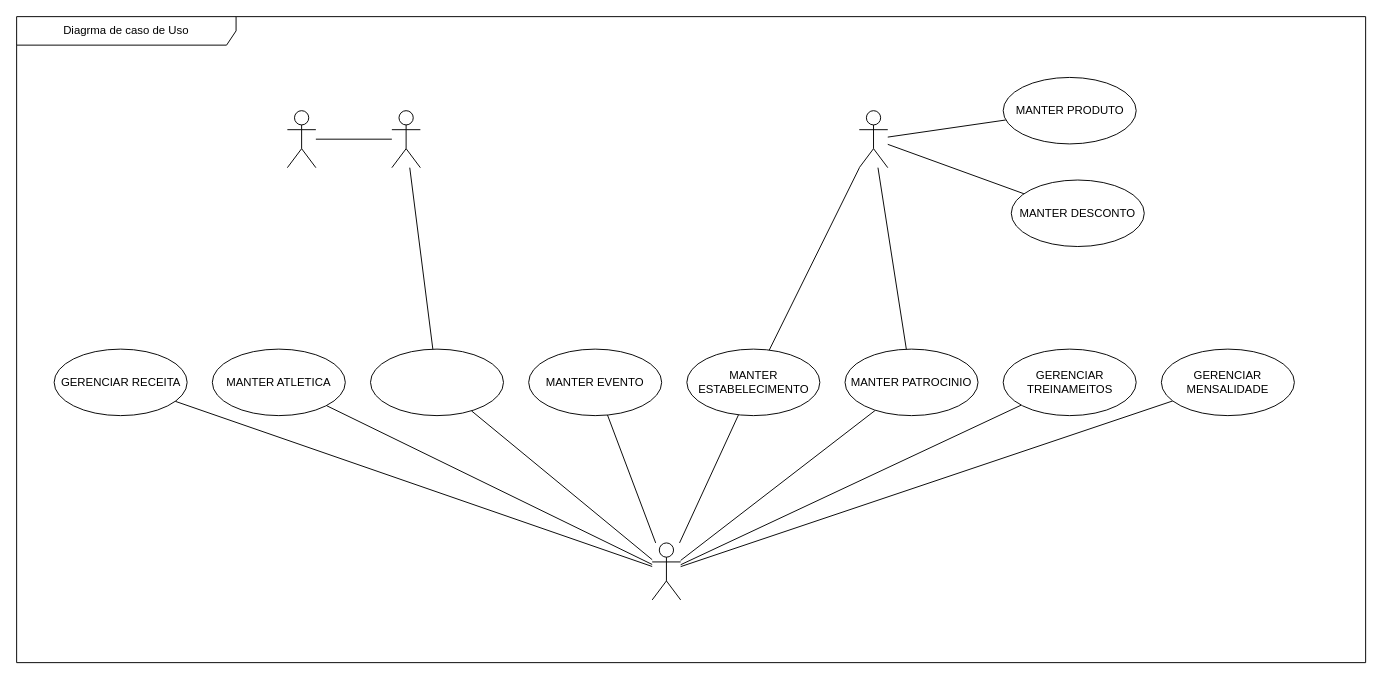
This 1382x679 diagram has some shape labels left out. Here are the shapes that lost their labels. From the top down, the centre of each, then its label:
At [301,139]: "DEPENDENTE".
At [405,139]: "ASSOCIADO".
At [873,139]: "PROPRIETÁRIO ESTABELECIMENTO".
At [437,382]: "MANTER ASSOCIADO".
At [666,571]: "PRESIDENTE".
